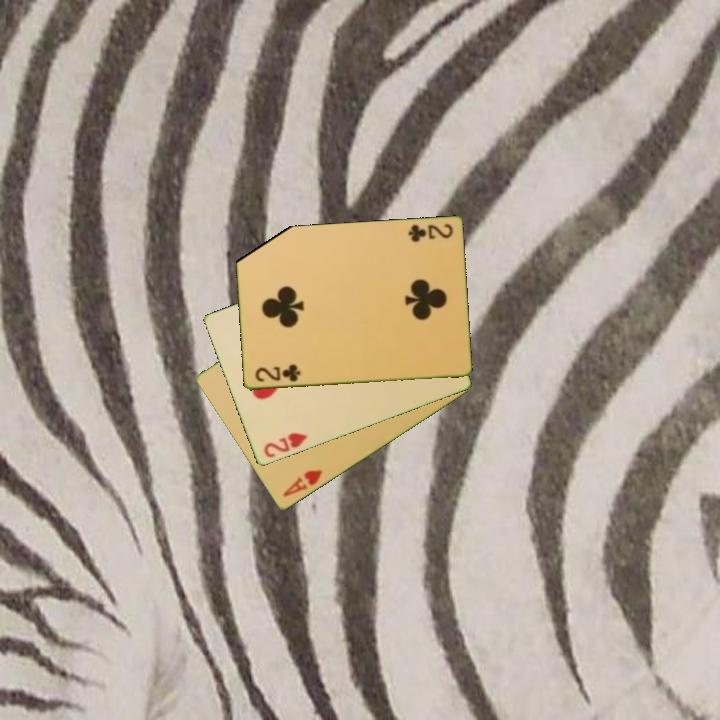2c: (251, 361, 303, 385), (405, 221, 456, 245)
2h: (260, 429, 310, 461)
Ah: (279, 467, 325, 500)
